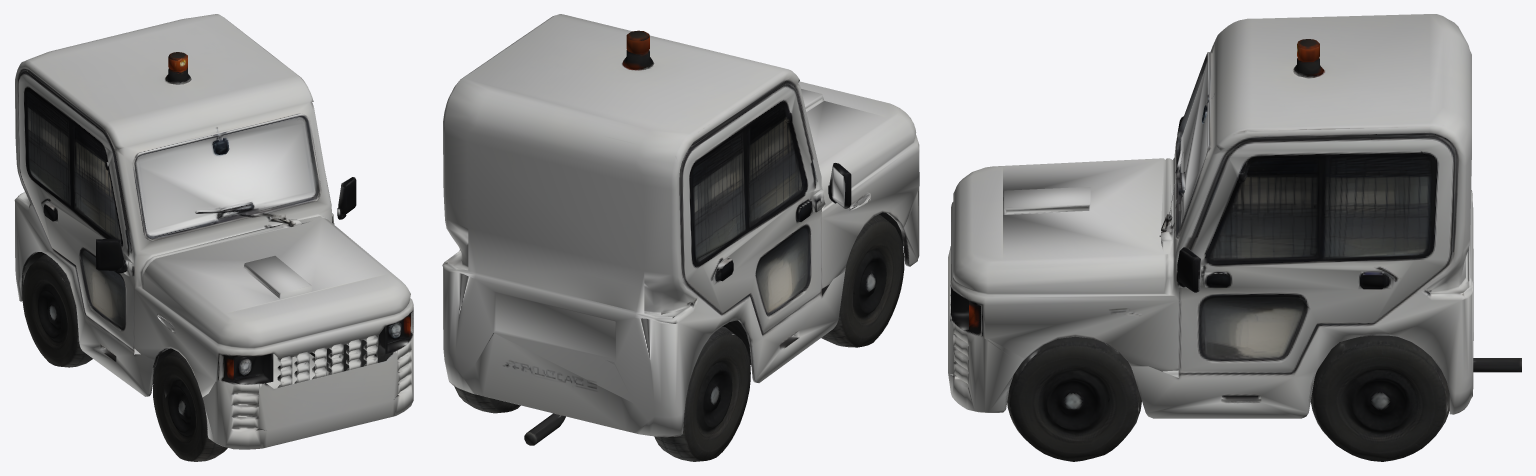
3 views of the same model, side by side, from view 1: azimuth 30°, elevation 25°; view 2: azimuth 150°, elevation 25°; view 3: azimuth 270°, elevation 25° (orthographic). The views are drawn at different scales.
Visible parts, largest first — view 1: texture_pbr_20250901; view 2: texture_pbr_20250901; view 3: texture_pbr_20250901.
Boxes of the visible parts, <box> form: texture_pbr_20250901: <box>14,14,413,461</box>; texture_pbr_20250901: <box>442,14,919,461</box>; texture_pbr_20250901: <box>948,14,1521,461</box>.
Size of the model in its own units: 1.18 by 1.34 by 1.91.
1 material, 1 textured.
